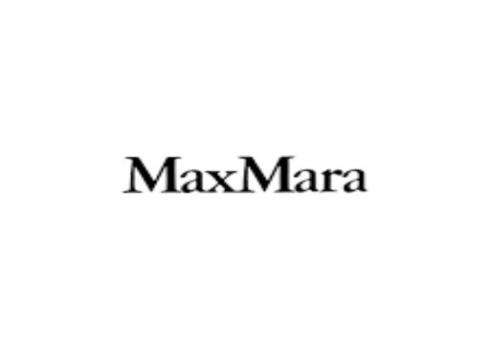MAX-MARA: (125, 151, 370, 196)
